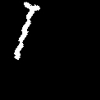half_double_crochet: (14, 2, 39, 59)
